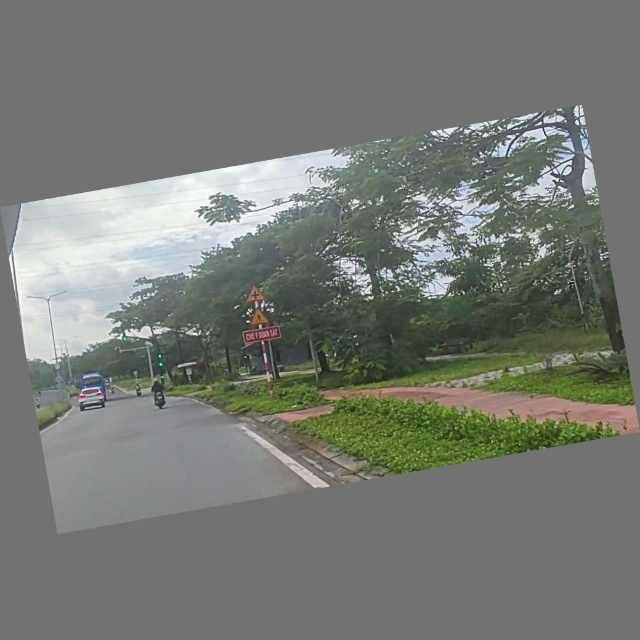W.205a: (242, 284, 266, 304)
W.224: (247, 306, 271, 327)
